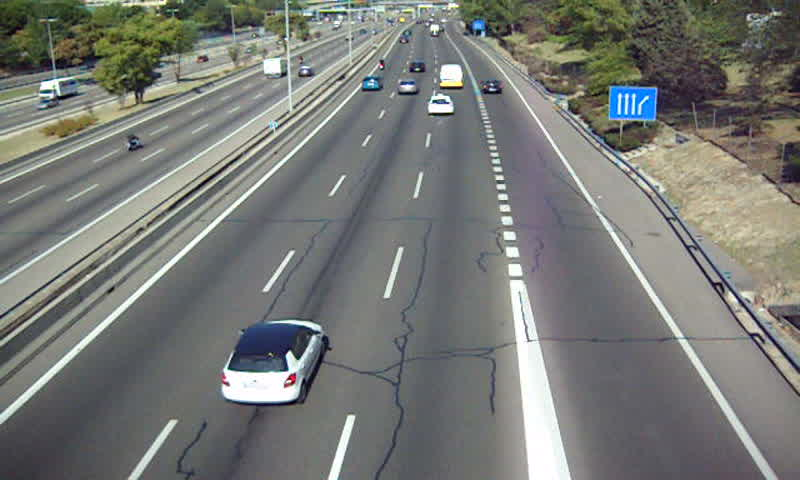car: (222, 320, 326, 403), (426, 94, 456, 116), (396, 80, 418, 96), (480, 80, 502, 95), (361, 77, 380, 94)
van: (438, 65, 464, 90)
